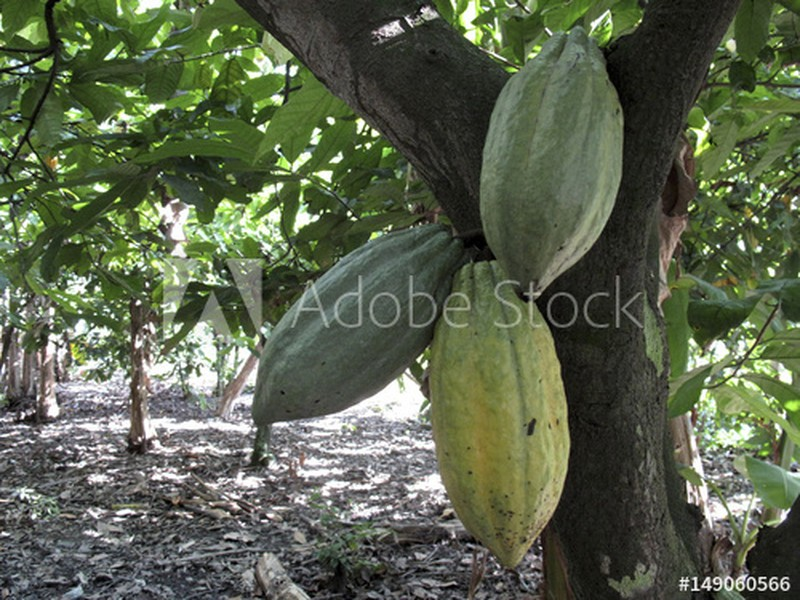Cacaopod: (429, 260, 571, 569), (480, 25, 620, 300)
